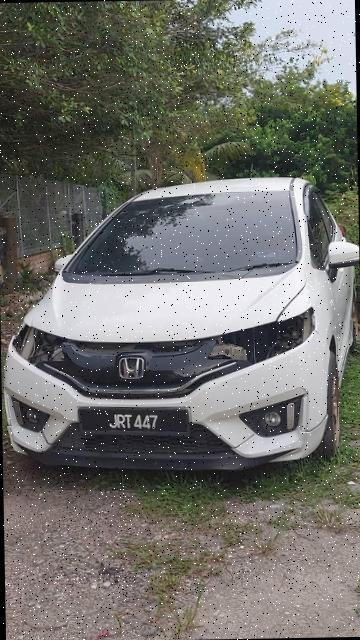License_Plate: (87, 405, 177, 437)
car: (1, 166, 357, 485)
